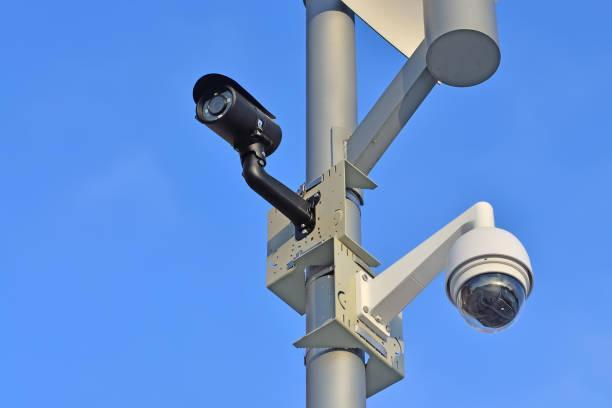camera: (161, 48, 301, 181), (428, 192, 542, 352)
